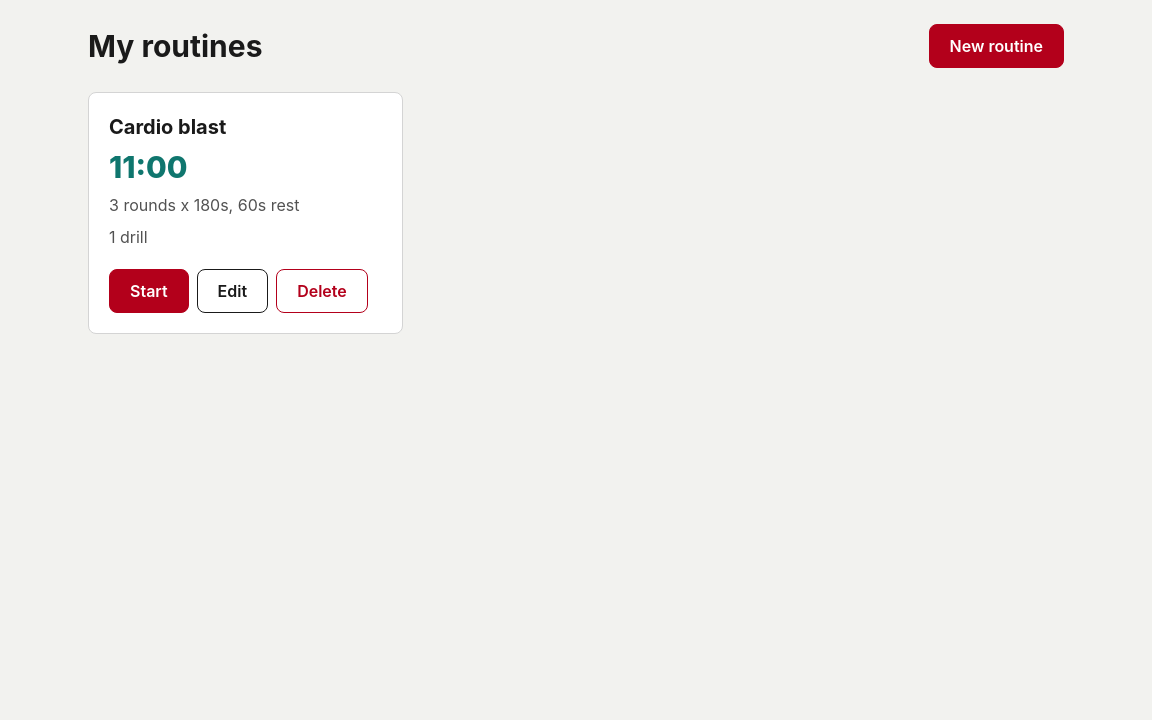
Test: Routines page › tells the user when deleting fails
This screenshot has width=1152, height=720.
Click the button "Delete" at [322, 291], box [276, 269, 368, 313]
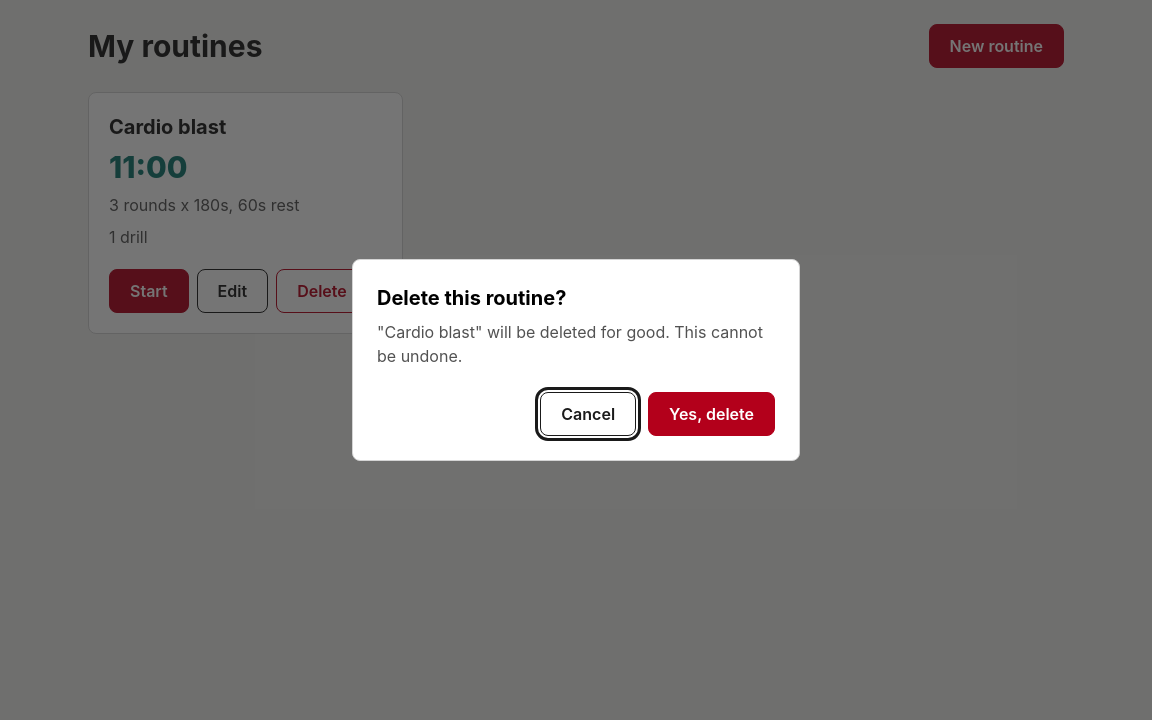
Click the button "Yes, delete" at [712, 414], box [648, 392, 775, 436]
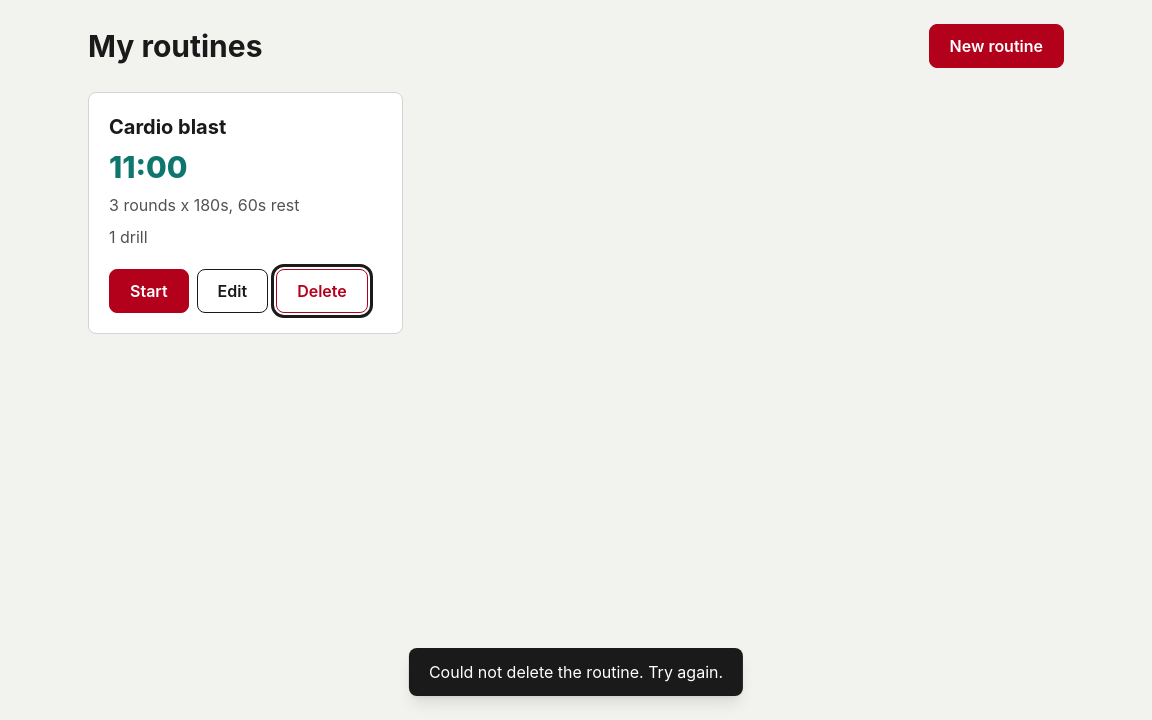
expect the text "Could not delete the routine. Try again." is shown: met, box [409, 648, 743, 696]
